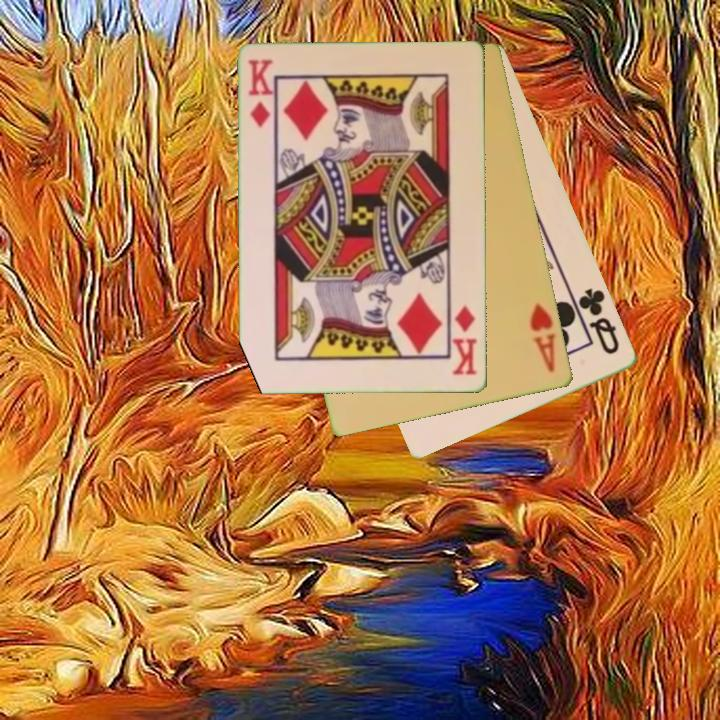Ah: (527, 299, 559, 375)
Kd: (449, 302, 480, 378), (246, 56, 276, 131)
Qc: (569, 284, 623, 358)
